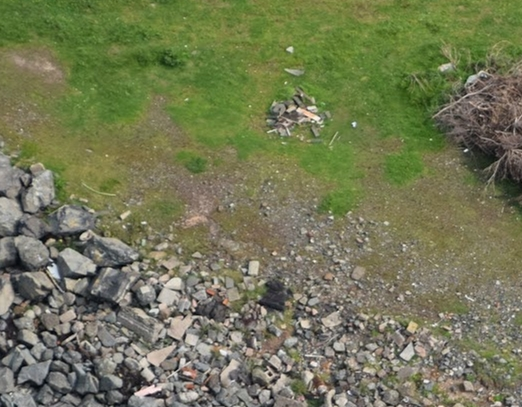scattered_barrel: (435, 52, 494, 91)
together_barrel: (263, 84, 334, 146)
